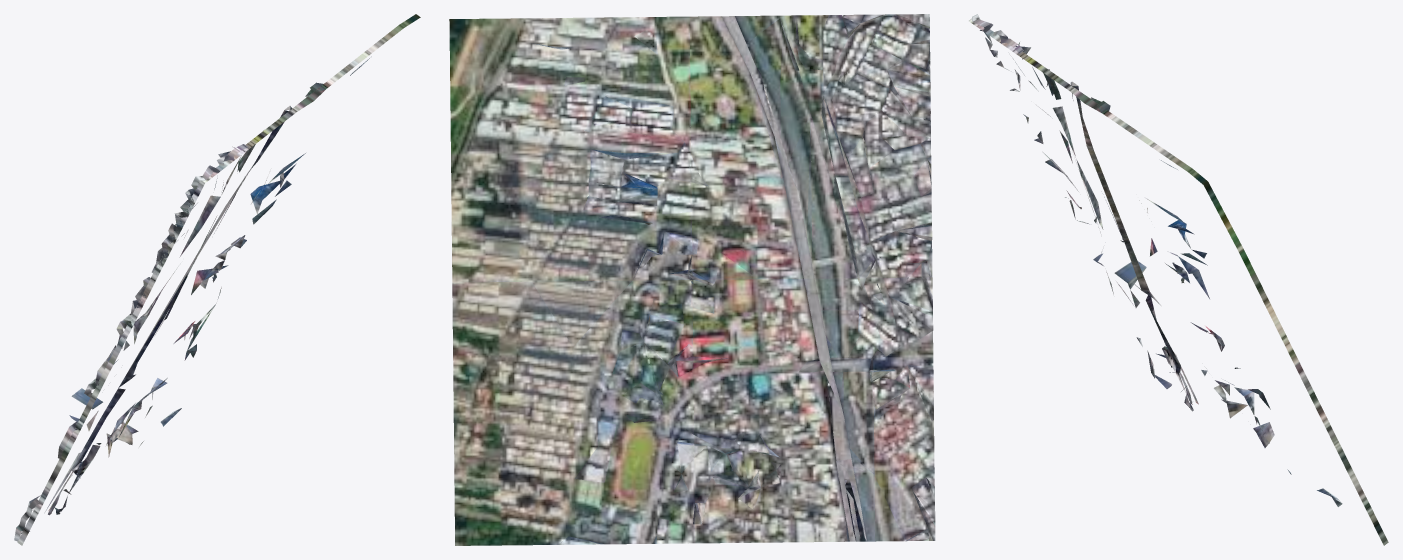
3 views of the same model, side by side, from view 1: azimuth 30°, elevation 25°; view 2: azimuth 150°, elevation 25°; view 3: azimuth 270°, elevation 25° (orthographic). The views are drawn at different scales.
Bounding box in the file's own units: 1230 × 1122 × 1030.
Materials: 1 (1 with a texture image).
